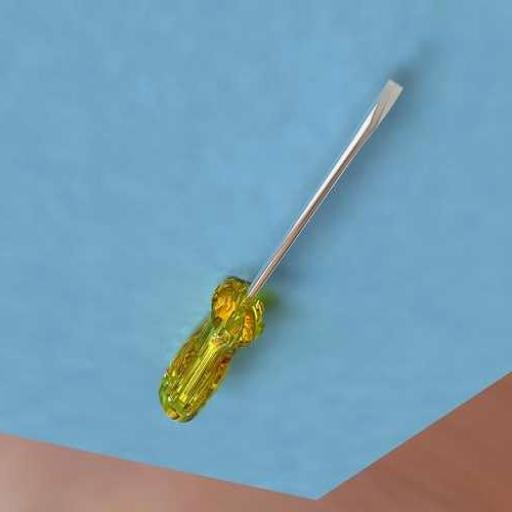screwdriver: (158, 75, 402, 424)
